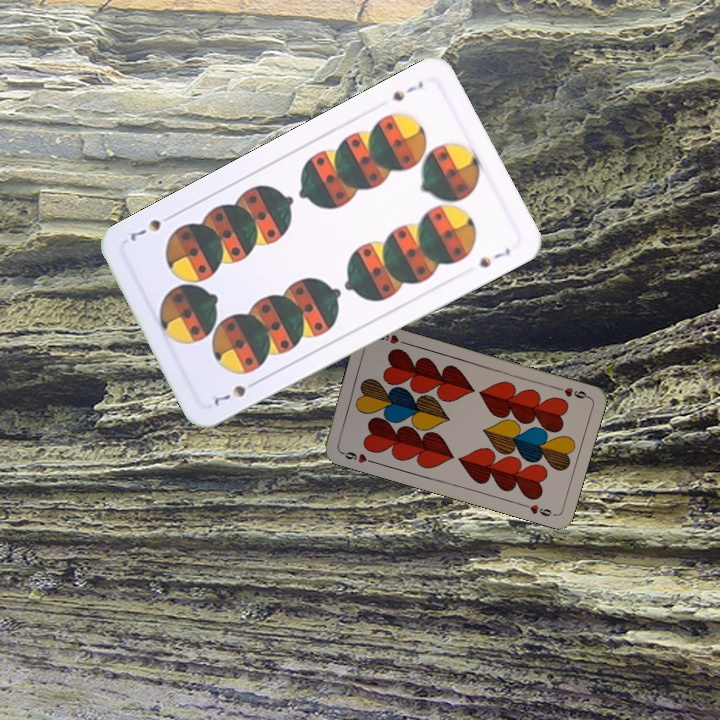H9: (336, 447, 376, 466), (552, 383, 592, 401)
S7: (206, 376, 262, 410), (388, 76, 426, 104)
